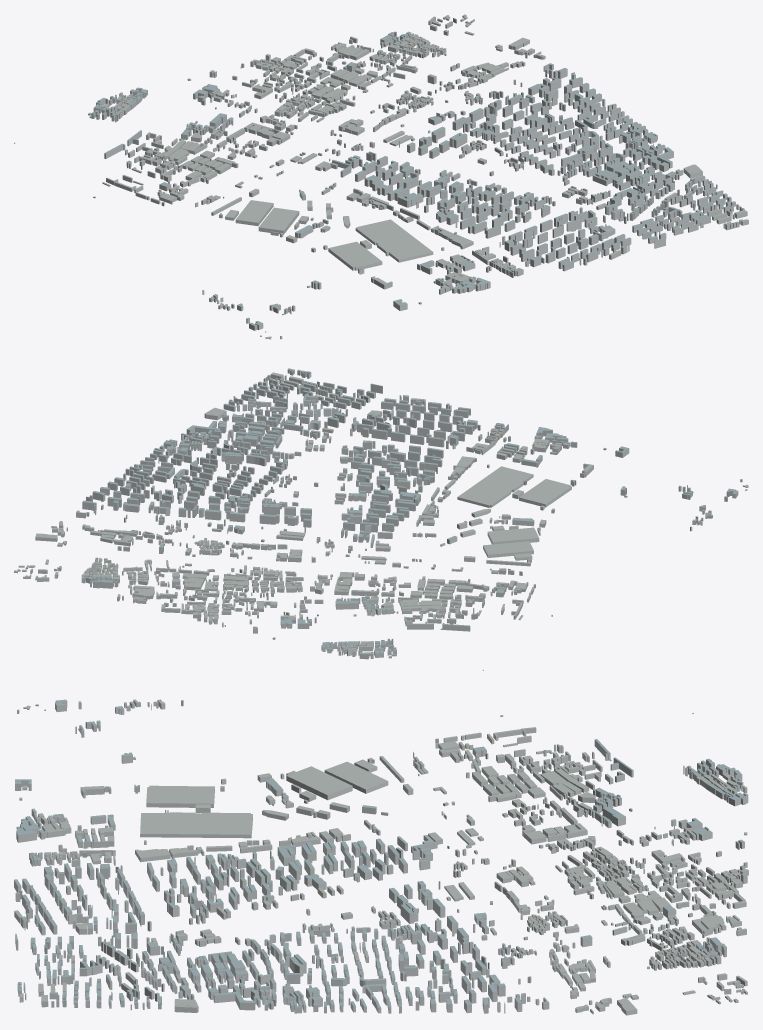
Rendered from far.glb.
3 renders of one model, top to bottom at view 1: azimuth 30°, elevation 25°; view 2: azimuth 150°, elevation 25°; view 3: azimuth 270°, elevation 25°, orthographic. The views are drawn at different scales.
Size of the model in its own units: 2114 by 34.2 by 2104.
